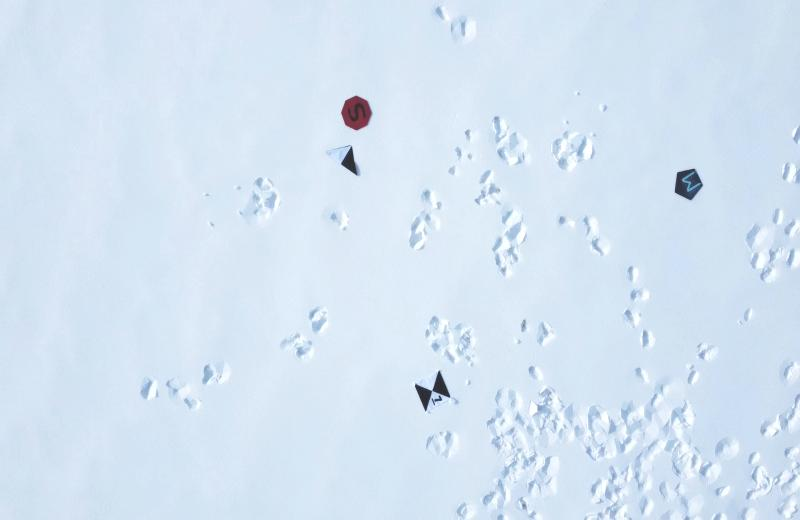Octagon: (338, 92, 376, 134)
Pentagon: (668, 164, 706, 204)
